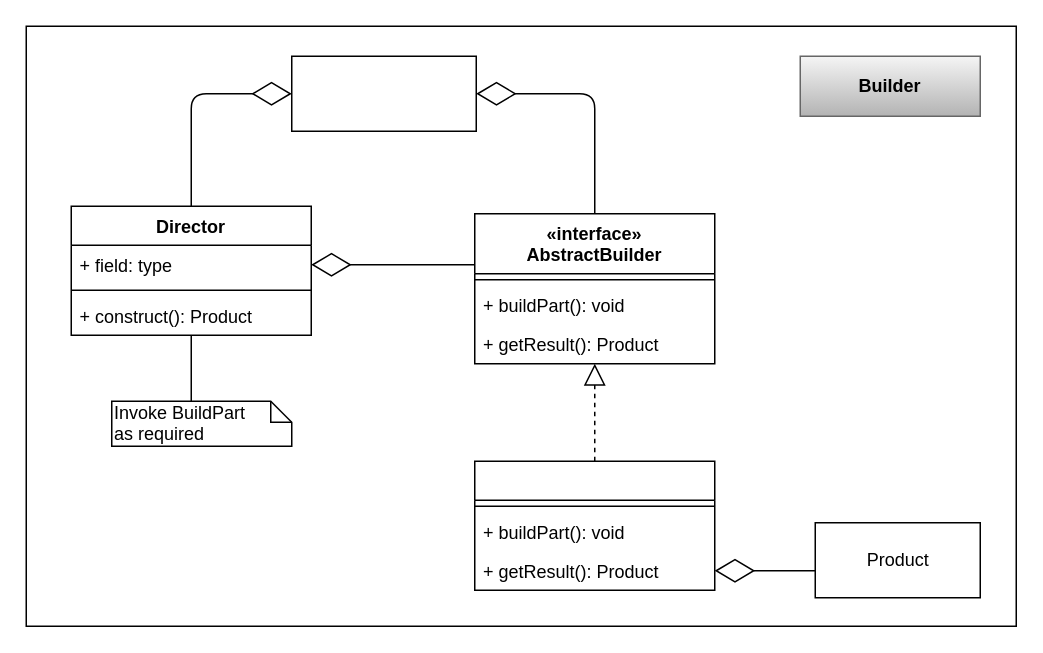
The diagram is 1043 pixels wide and 653 high, and some of its shapes have lost their labels. Each missing label, with the box of its shape:
Client: (290, 55, 476, 131)
ConcreteBuilder: (473, 460, 715, 590)
